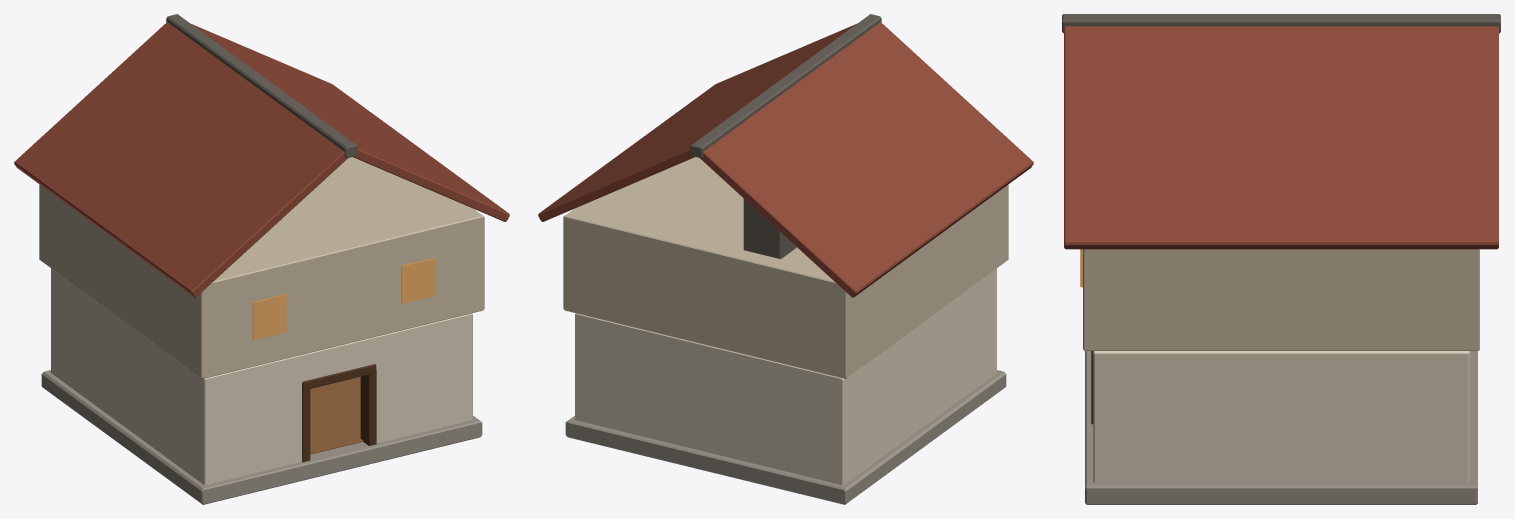
File: yeager-house.glb
3 views of the same model, side by side, from view 1: azimuth 30°, elevation 25°; view 2: azimuth 150°, elevation 25°; view 3: azimuth 270°, elevation 25° (orthographic). The views are drawn at different scales.
Parts seen in each view (by area): view 1: mat_roofClay, mat_plasterAlt, mat_plaster, mat_stone, mat_timberLight, mat_stoneDark, mat_glass, mat_timber; view 2: mat_roofClay, mat_plasterAlt, mat_plaster, mat_stone, mat_stoneDark; view 3: mat_roofClay, mat_plaster, mat_plasterAlt, mat_stone, mat_stoneDark.
Boxes of the visible parts, x1=… form: mat_roofClay: x1=14, y1=22, x2=509, y2=297; mat_plasterAlt: x1=39, y1=157, x2=484, y2=378; mat_plaster: x1=51, y1=268, x2=472, y2=485; mat_stone: x1=41, y1=370, x2=482, y2=504; mat_timberLight: x1=310, y1=377, x2=363, y2=454; mat_stoneDark: x1=166, y1=14, x2=357, y2=158; mat_glass: x1=252, y1=257, x2=434, y2=339; mat_timber: x1=302, y1=364, x2=376, y2=462; mat_roofClay: x1=538, y1=22, x2=1033, y2=297; mat_plasterAlt: x1=563, y1=157, x2=1008, y2=378; mat_plaster: x1=575, y1=268, x2=996, y2=485; mat_stone: x1=565, y1=370, x2=1006, y2=504; mat_stoneDark: x1=690, y1=14, x2=881, y2=258; mat_roofClay: x1=1064, y1=26, x2=1498, y2=249; mat_plaster: x1=1093, y1=351, x2=1469, y2=482; mat_plasterAlt: x1=1083, y1=249, x2=1479, y2=350; mat_stone: x1=1085, y1=351, x2=1477, y2=504; mat_stoneDark: x1=1062, y1=14, x2=1500, y2=33.
Bounding box in the file's own units: 10.75 × 10.71 × 10.5.
